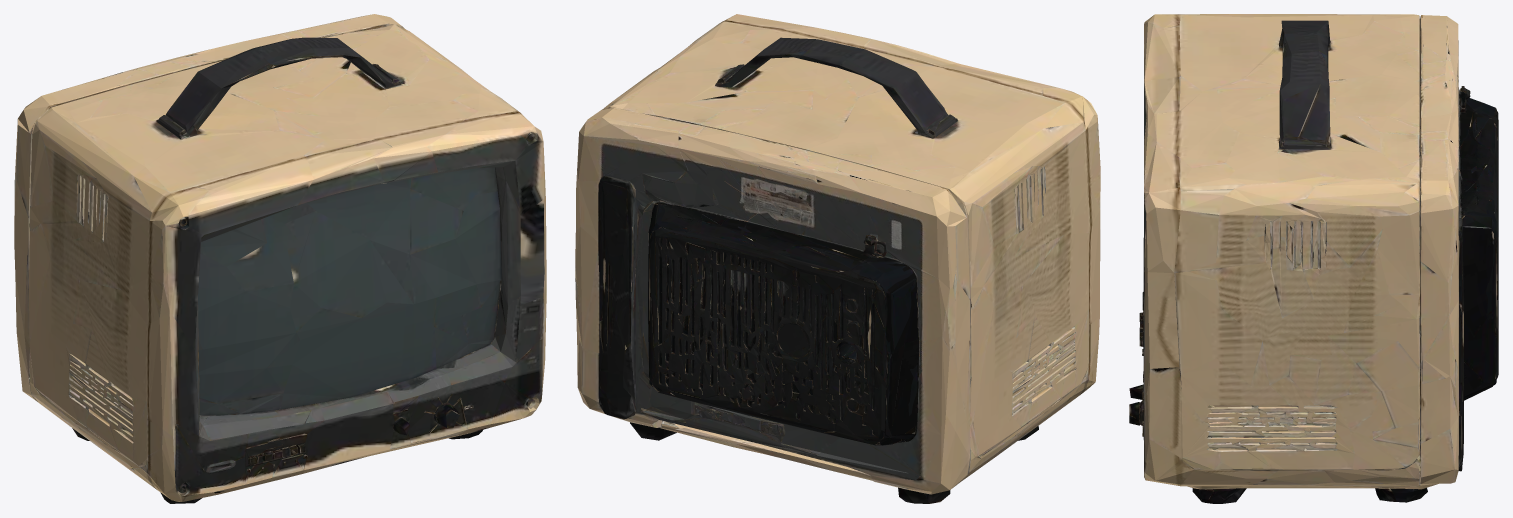
3 renders of one model, left to right at view 1: azimuth 30°, elevation 25°; view 2: azimuth 150°, elevation 25°; view 3: azimuth 270°, elevation 25°, orthographic. The views are drawn at different scales.
Size of the model in its own units: 1.9 by 1.81 by 1.55.
1 material, 1 textured.
